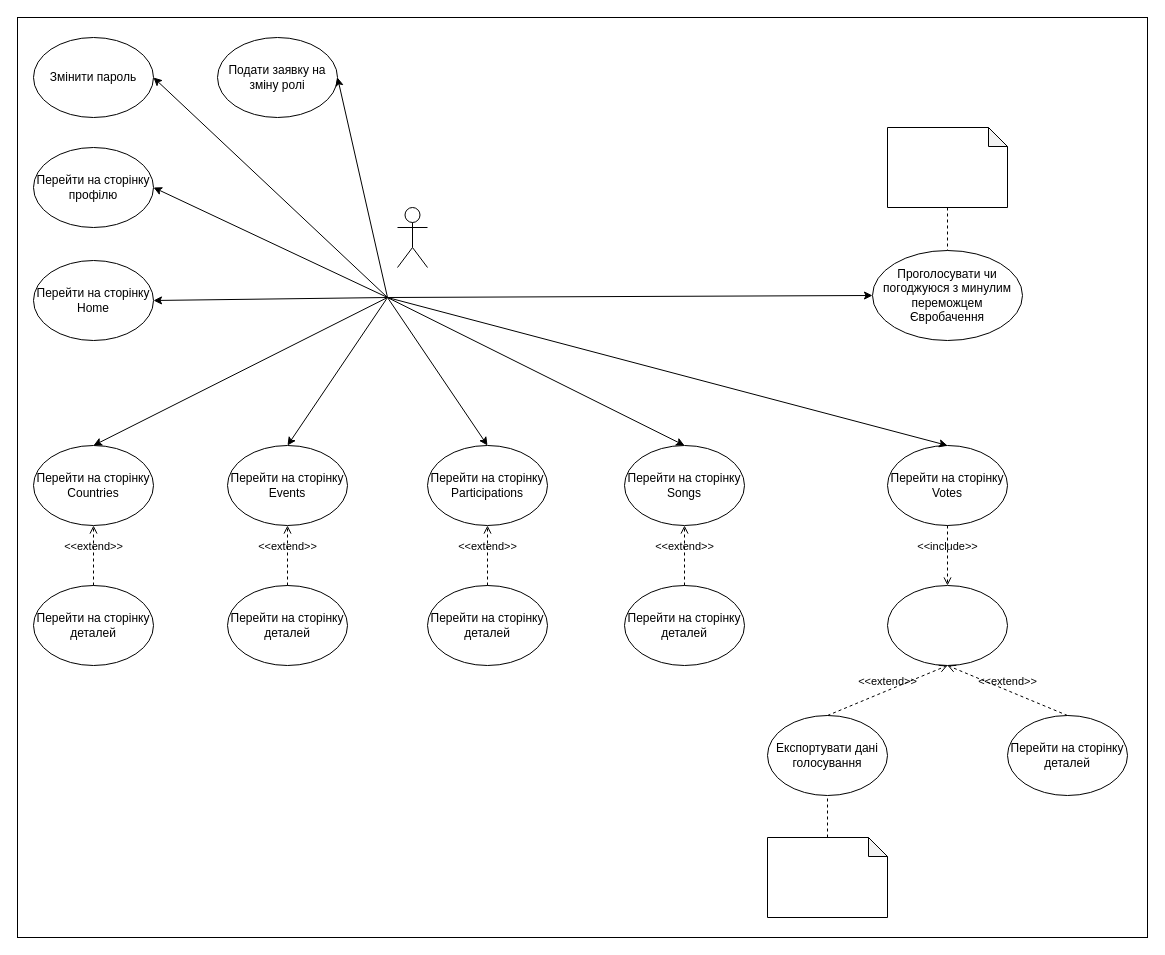
The diagram is 1165 pixels wide and 955 high, and some of its shapes have lost their labels. The shapes that lost their labels are listed below. From the top down, each one's centre as x and y in pixels, then its label:
At [947,167]: "Відображення діаграми".
At [412,237]: "User".
At [947,625]: "Обрати назву заходу".
At [827,877]: "- Всі голоси - Голоси обраного заходу".
